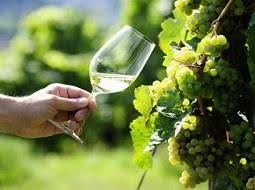Green grapes: (181, 118, 219, 190)
